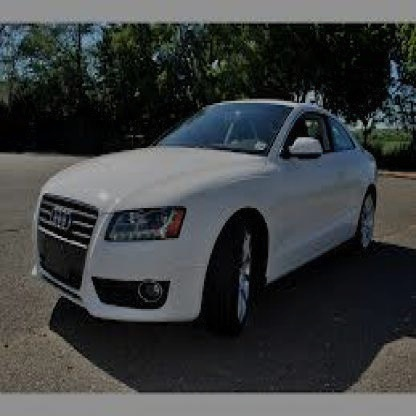Vehicle: (34, 84, 382, 343)
